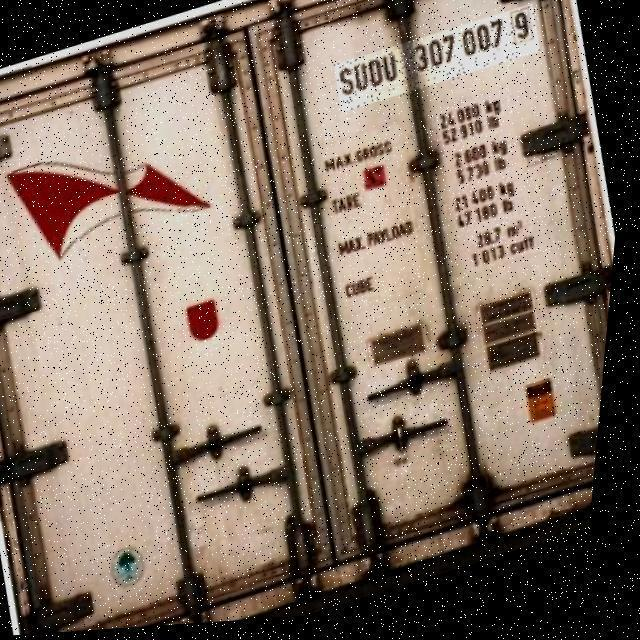container_number_h: (331, 10, 545, 120)
